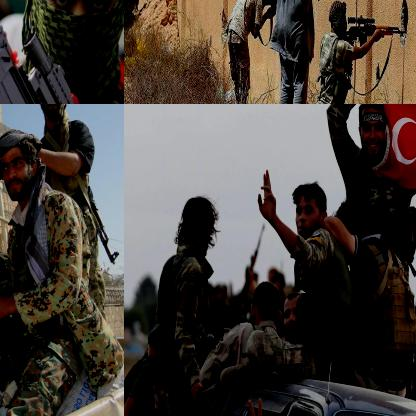rifle: (0, 0, 91, 103), (0, 218, 22, 377), (344, 17, 410, 57)
